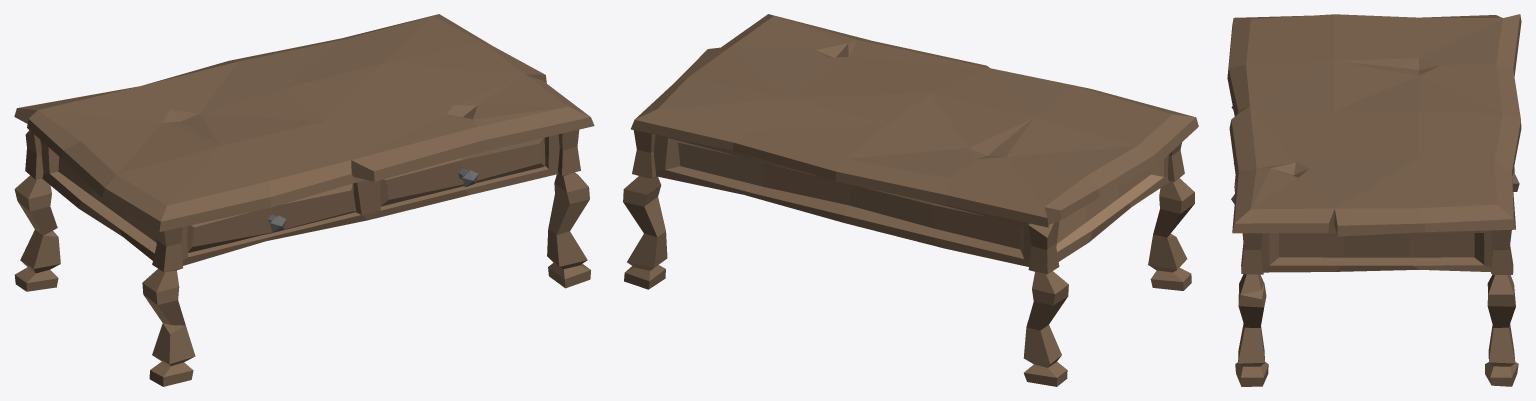
Rendered from Desk.fbx.
3 views of the same model, side by side, from view 1: azimuth 30°, elevation 25°; view 2: azimuth 150°, elevation 25°; view 3: azimuth 270°, elevation 25° (orthographic). The views are drawn at different scales.
Visible parts, largest first — view 1: Desk; view 2: Desk; view 3: Desk.
Boxes of the visible parts, <box> form: Desk: <box>14,14,594,386</box>; Desk: <box>623,14,1198,386</box>; Desk: <box>1227,14,1521,386</box>.
Bounding box in the file's own units: 5.29 × 2.01 × 3.07.
